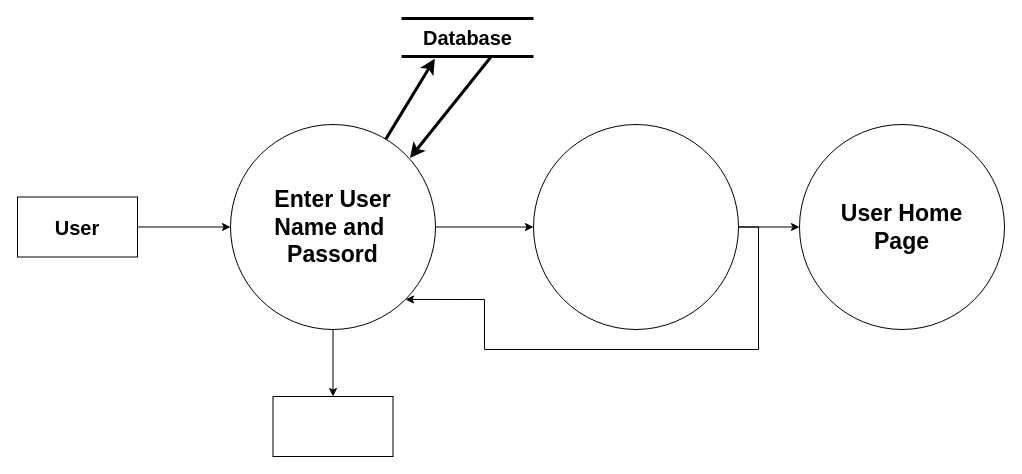
Image size: 1022x474. Some labels were removed from this diagram. Here are the shapes that lost their labels. From the top down, the centre of each, then its label:
[635,227]: Check User
[332,426]: Verification
